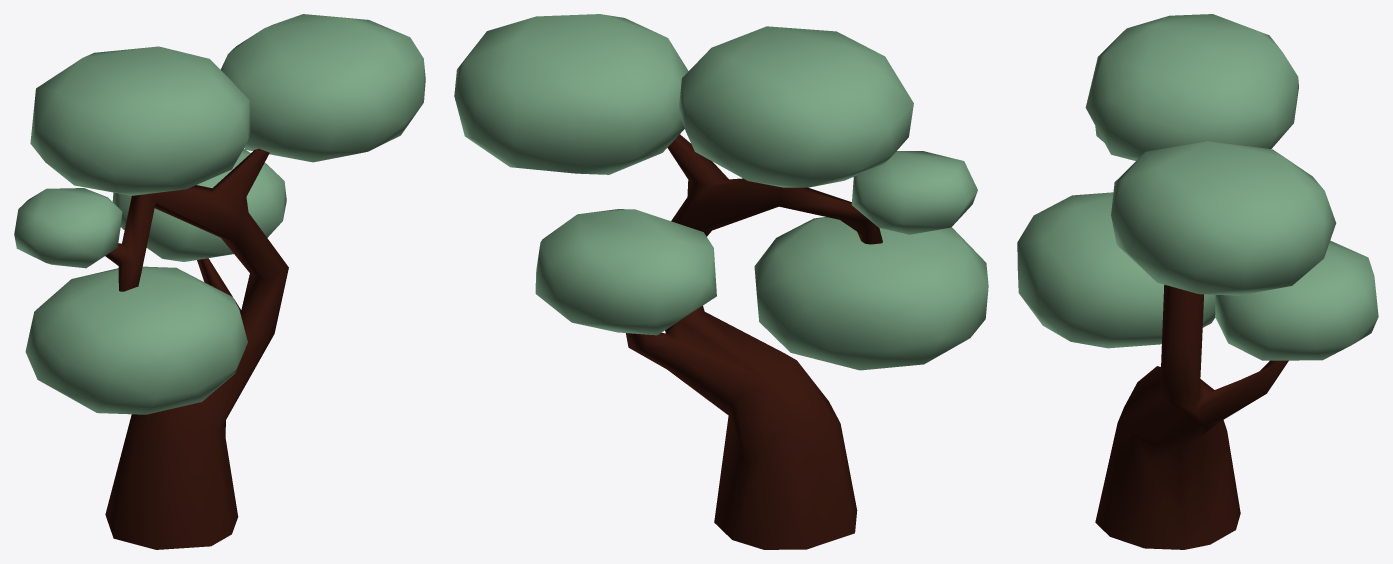
File: tree_09.fbx
3 renders of one model, left to right at view 1: azimuth 30°, elevation 25°; view 2: azimuth 150°, elevation 25°; view 3: azimuth 270°, elevation 25°, orthographic. The views are drawn at different scales.
Visible parts, largest first — view 1: tree_09; view 2: tree_09; view 3: tree_09.
Part boxes in pixels (x1,y1,x2,y2): tree_09: [14, 14, 425, 549]; tree_09: [454, 14, 988, 549]; tree_09: [1017, 14, 1378, 549].
Bounding box in the file's own units: 4.59 × 3.16 × 4.53.
